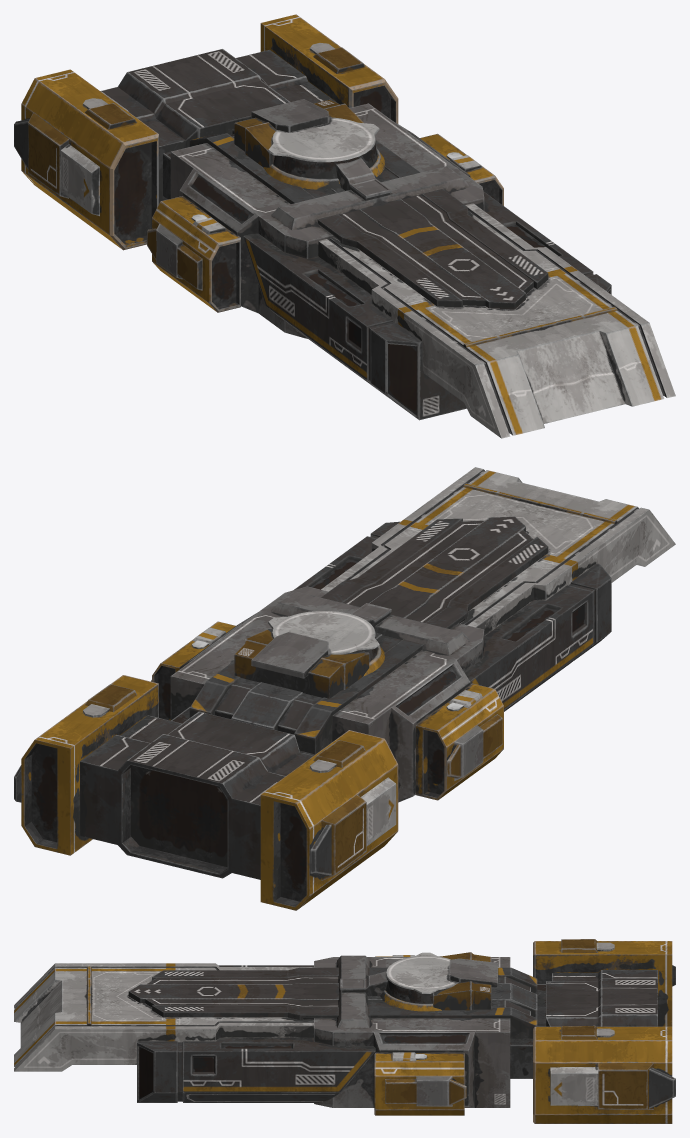
File: Imperial.glb
3 renders of one model, top to bottom at view 1: azimuth 30°, elevation 25°; view 2: azimuth 150°, elevation 25°; view 3: azimuth 270°, elevation 25°, orthographic. The views are drawn at different scales.
Parts seen in each view (by area): view 1: Imperial_Cube.028; view 2: Imperial_Cube.028; view 3: Imperial_Cube.028.
Boxes of the visible parts, x1,y1,x2,y2 form: Imperial_Cube.028: [14, 14, 675, 438]; Imperial_Cube.028: [14, 467, 675, 910]; Imperial_Cube.028: [14, 939, 675, 1123].
Bounding box in the file's own units: 7.73 × 3.3 × 18.55.
1 material, 1 textured.
